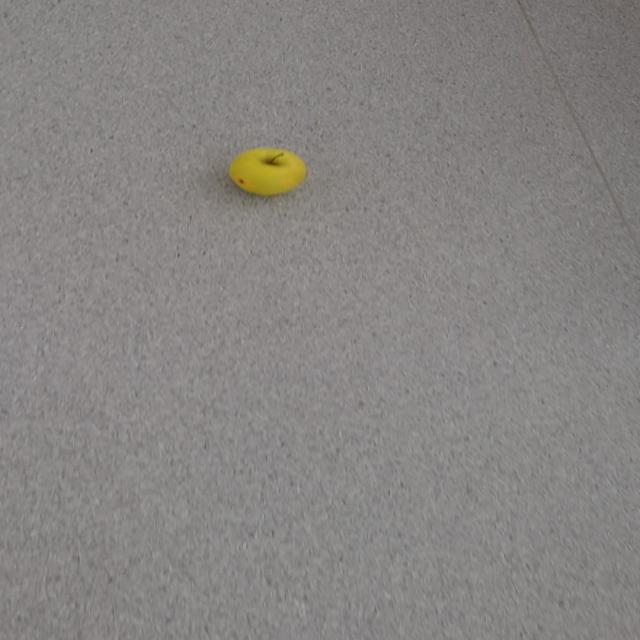apple: (228, 148, 307, 196)
